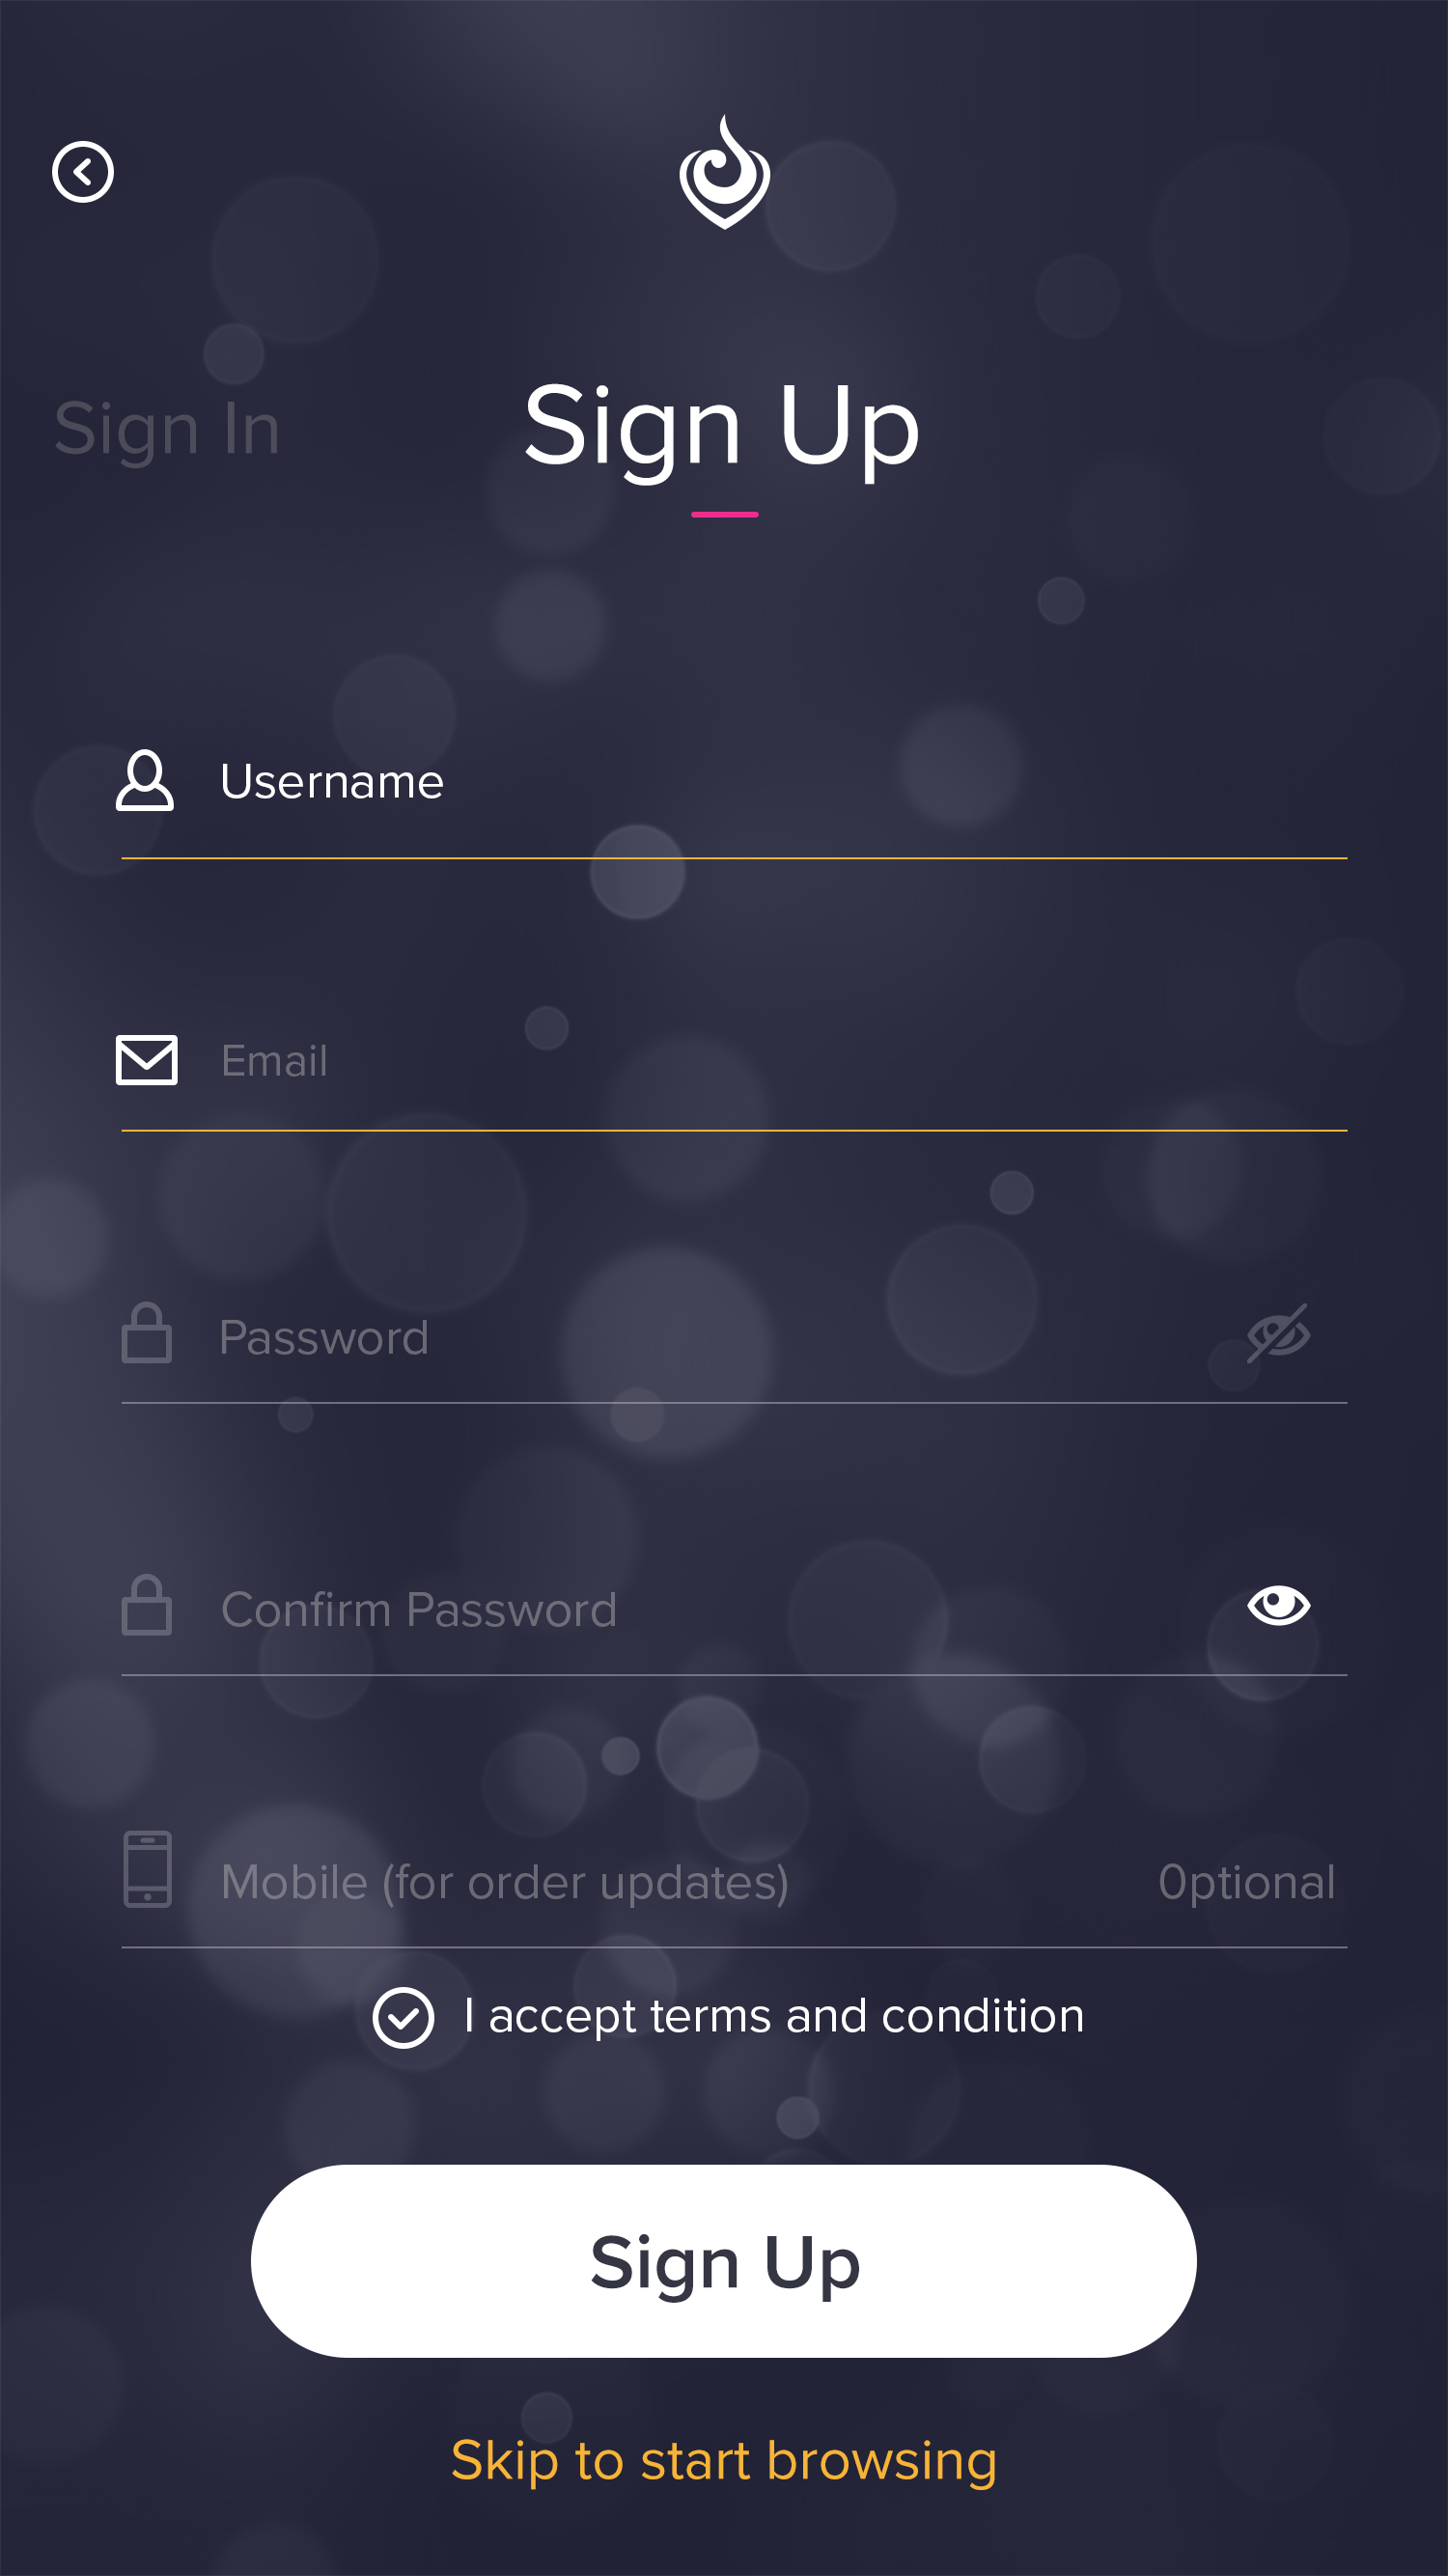BackgroundImage: (2, 2, 1448, 2576)
CheckedTextView: (371, 1985, 1084, 2051)
EditText: (122, 1829, 1349, 1950), (117, 748, 1349, 862), (122, 1300, 1349, 1405), (122, 1573, 1349, 1677), (117, 1033, 1349, 1134)
Icon: (51, 142, 117, 205), (1246, 1302, 1312, 1364), (117, 748, 175, 812), (122, 1573, 173, 1637), (117, 1035, 179, 1086), (122, 1302, 173, 1364), (1246, 1585, 1312, 1628)
Image: (679, 113, 773, 232), (124, 1831, 173, 1909)
Text: (525, 384, 919, 488), (453, 2436, 997, 2491), (465, 1996, 1084, 2043), (225, 1863, 789, 1909), (55, 400, 279, 471), (223, 1592, 617, 1628), (223, 764, 444, 801), (223, 1318, 428, 1355), (225, 1044, 327, 1077)
TextButton: (251, 2164, 1199, 2358)
